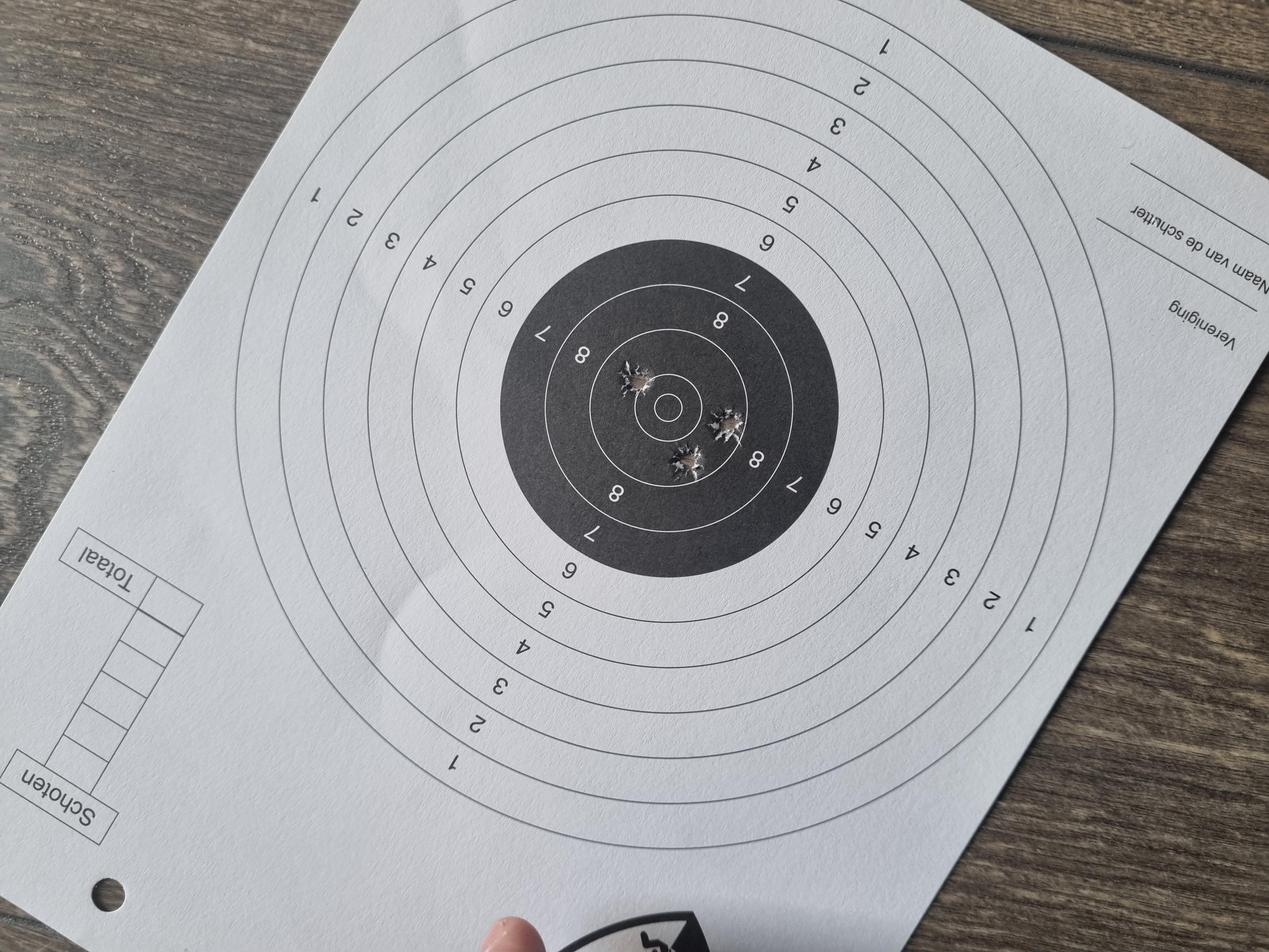hole: (675, 530, 728, 560), (625, 501, 680, 529), (738, 464, 786, 490)
